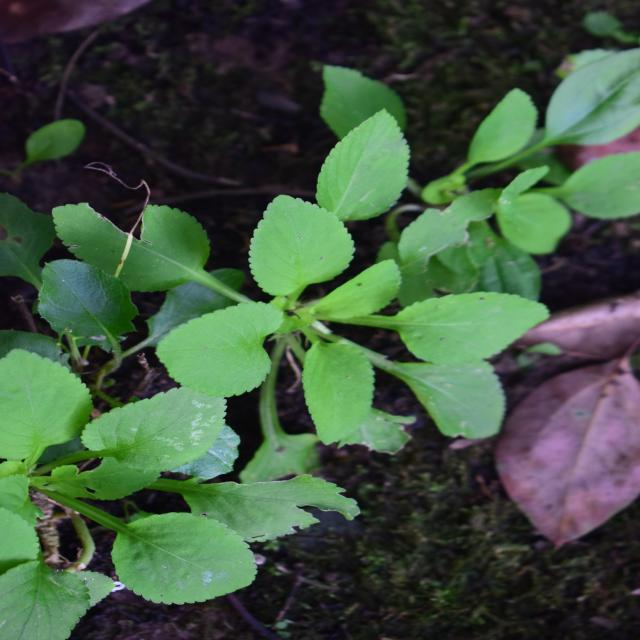Viola: (195, 127, 480, 504)
